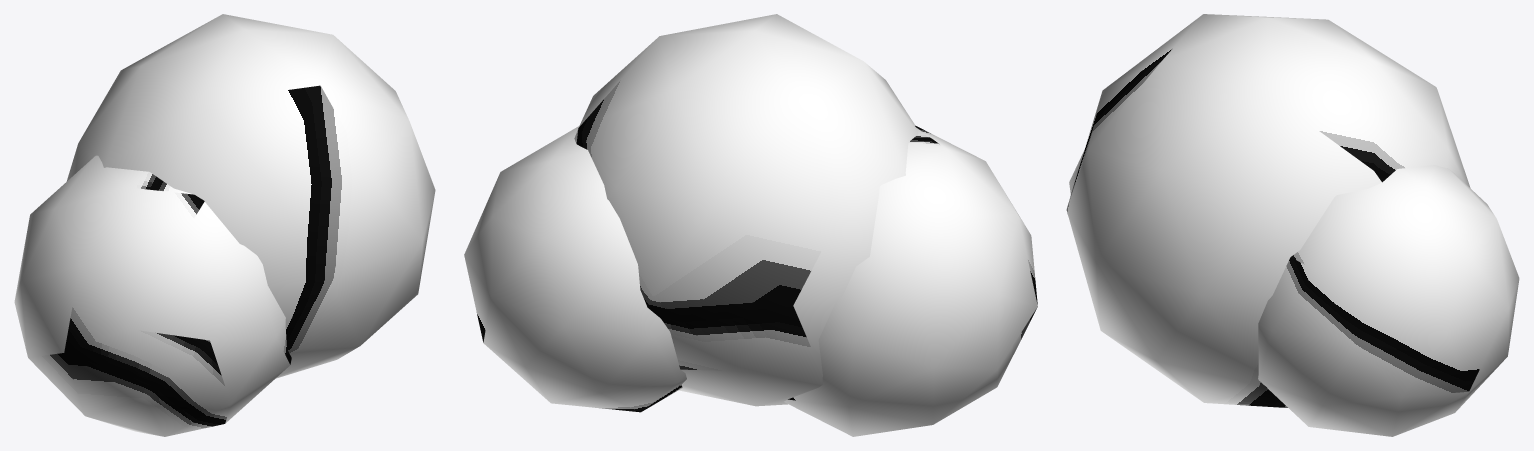
Rendered from DustCloud.glb.
The picture shows the model from 3 angles, left to right: view 1: azimuth 30°, elevation 25°; view 2: azimuth 150°, elevation 25°; view 3: azimuth 270°, elevation 25°; orthographic projection. The views are drawn at different scales.
Visible parts, largest first — view 1: DustCloud; view 2: DustCloud; view 3: DustCloud.
Part boxes in pixels (x1,y1,x2,y2): DustCloud: [14, 14, 435, 436]; DustCloud: [464, 14, 1037, 436]; DustCloud: [1066, 14, 1519, 436].
Size of the model in its own units: 0.2389 by 0.1877 by 0.1998.
Materials: 1 (1 with a texture image).
